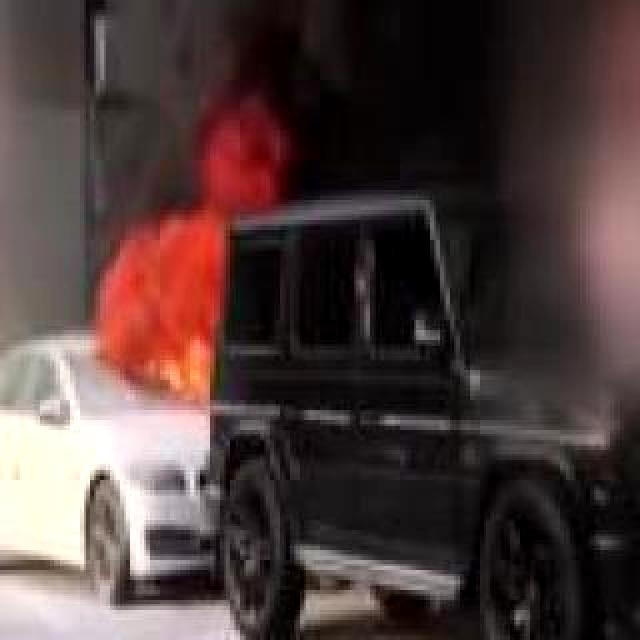fire: (118, 146, 260, 398)
